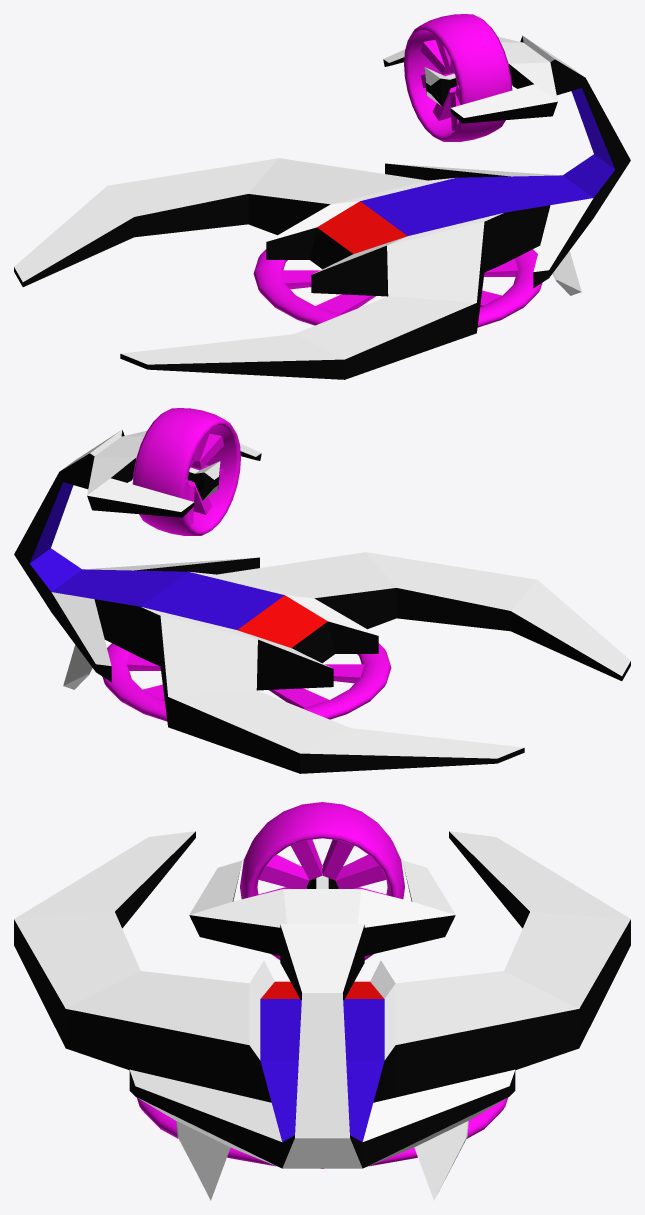
3 renders of one model, top to bottom at view 1: azimuth 30°, elevation 25°; view 2: azimuth 150°, elevation 25°; view 3: azimuth 270°, elevation 25°, orthographic. The views are drawn at different scales.
Visible parts, largest first — view 1: Box001, Torus001, Torus002; view 2: Box001, Torus001, Torus002; view 3: Box001, Torus001, Torus002.
Part boxes in pixels (left/top/right/bottom): Box001: left=14, top=35, right=630, bottom=379; Torus001: left=404, top=14, right=512, bottom=141; Torus002: left=253, top=249, right=542, bottom=327; Box001: left=14, top=429, right=630, bottom=773; Torus001: left=132, top=408, right=240, bottom=535; Torus002: left=102, top=643, right=391, bottom=721; Box001: left=14, top=831, right=630, bottom=1200; Torus001: left=240, top=802, right=404, bottom=960; Torus002: left=136, top=1097, right=508, bottom=1168.
Bounding box in the file's own units: 113 × 50.97 × 84.43.
